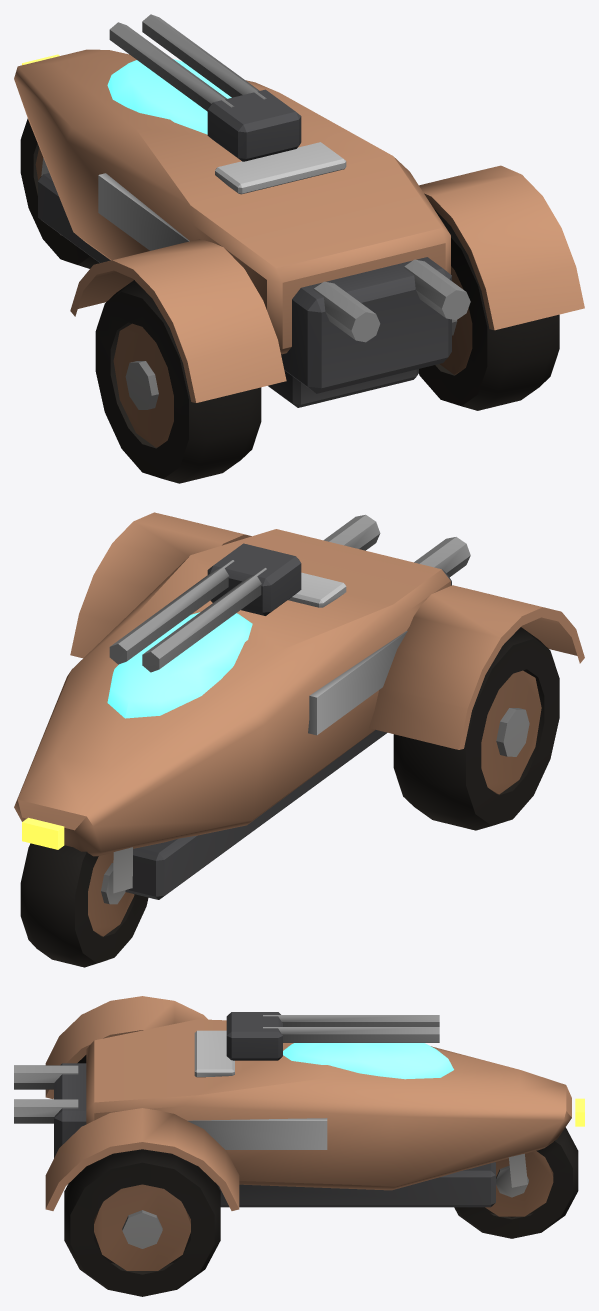
The model's file is TRIKE.glb.
The picture shows the model from 3 angles, top to bottom: view 1: azimuth 30°, elevation 25°; view 2: azimuth 150°, elevation 25°; view 3: azimuth 270°, elevation 25°; orthographic projection. The views are drawn at different scales.
Visible parts, largest first — view 1: body, wheel_L, wheel_R, gun, wheel_F; view 2: body, wheel_L, wheel_F, gun; view 3: body, wheel_R, gun, wheel_F.
Part boxes in pixels (x1,y1,x2,y2): body: [14, 49, 584, 407]; wheel_L: [95, 280, 261, 483]; wheel_R: [419, 208, 559, 410]; gun: [109, 14, 301, 161]; wheel_F: [20, 118, 99, 268]; body: [14, 512, 584, 899]; wheel_L: [393, 627, 559, 830]; wheel_F: [20, 843, 148, 967]; gun: [109, 543, 301, 672]; body: [14, 996, 584, 1210]; wheel_R: [64, 1149, 220, 1296]; gun: [226, 1012, 439, 1060]; wheel_F: [454, 1127, 578, 1238].
Bounding box in the file's own units: 0.43 × 0.291 × 0.711.
